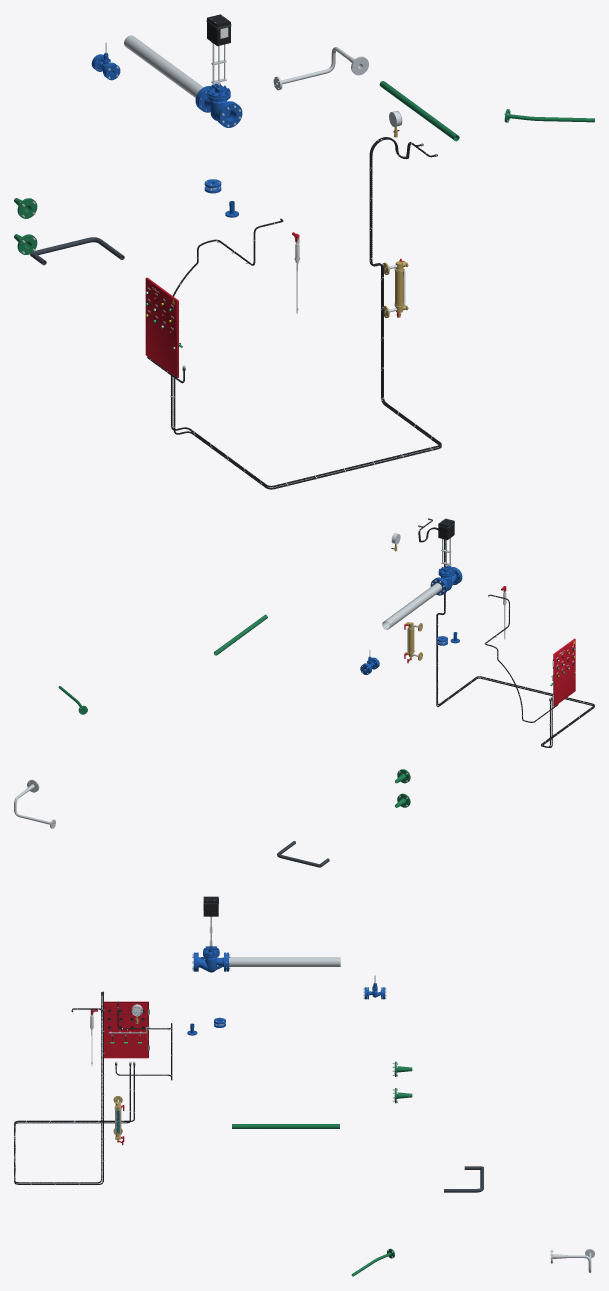
3 renders of one model, top to bottom at view 1: azimuth 30°, elevation 25°; view 2: azimuth 150°, elevation 25°; view 3: azimuth 270°, elevation 25°, orthographic. The views are drawn at different scales.
Parts seen in each view (by area): view 1: cabinet_door / cabinet_door_5.npz, wiring_pressure_switch_2 / black, wiring_pressure_switch_1 / black, steam_delivery / steel, gpz CAD solid 0, fv_to_trap_gap / steel, sight_glasses_1 / sight_glasses_1_0.npz, eco_inlet_adapter / green, pump_delivery / green; view 2: cabinet_door / cabinet_door_5.npz, wiring_pressure_switch_1 / black, steam_delivery / steel, wiring_pressure_switch_2 / black; view 3: cabinet_door / cabinet_door_5.npz, steam_delivery / steel, wiring_pressure_switch_2 / black, wiring_pressure_switch_1 / black, gpz CAD solid 0, pump_delivery / green.
Boxes of the visible parts, x1,y1,x2,y2 form: cabinet_door / cabinet_door_5.npz: [145, 277, 179, 377]; wiring_pressure_switch_2 / black: [171, 138, 441, 487]; wiring_pressure_switch_1 / black: [173, 137, 441, 489]; steam_delivery / steel: [124, 35, 203, 97]; gpz CAD solid 0: [197, 83, 235, 123]; fv_to_trap_gap / steel: [273, 47, 368, 90]; sight_glasses_1 / sight_glasses_1_0.npz: [382, 258, 408, 317]; eco_inlet_adapter / green: [14, 198, 37, 254]; pump_delivery / green: [379, 81, 459, 141]; cabinet_door / cabinet_door_5.npz: [552, 638, 575, 706]; wiring_pressure_switch_1 / black: [418, 519, 594, 747]; steam_delivery / steel: [382, 583, 441, 629]; wiring_pressure_switch_2 / black: [419, 526, 594, 747]; cabinet_door / cabinet_door_5.npz: [104, 1001, 149, 1058]; steam_delivery / steel: [229, 957, 340, 966]; wiring_pressure_switch_2 / black: [14, 992, 134, 1183]; wiring_pressure_switch_1 / black: [14, 991, 130, 1184]; gpz CAD solid 0: [196, 946, 226, 972]; pump_delivery / green: [232, 1124, 339, 1128].
Bounding box in the file's own units: 5.77 × 3.47 × 6.74.
